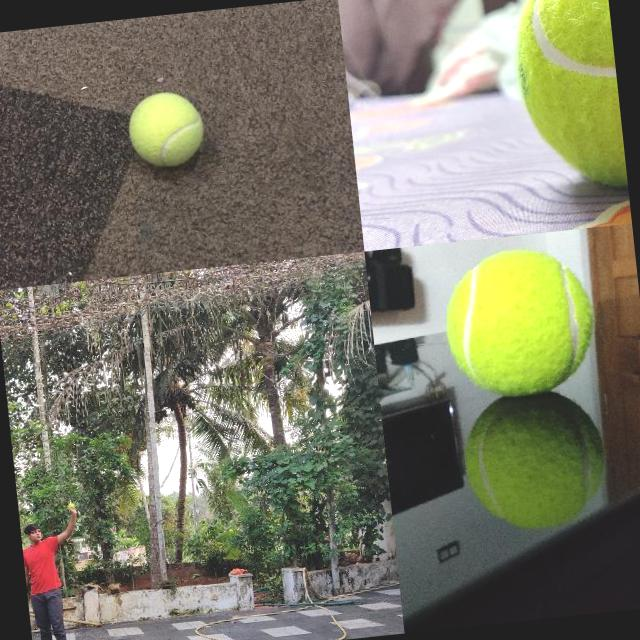Tennis Ball: (438, 240, 600, 402), (506, 0, 627, 199), (124, 87, 209, 171), (68, 502, 74, 508)
